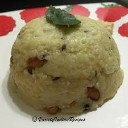venpongal: (13, 11, 122, 111)
